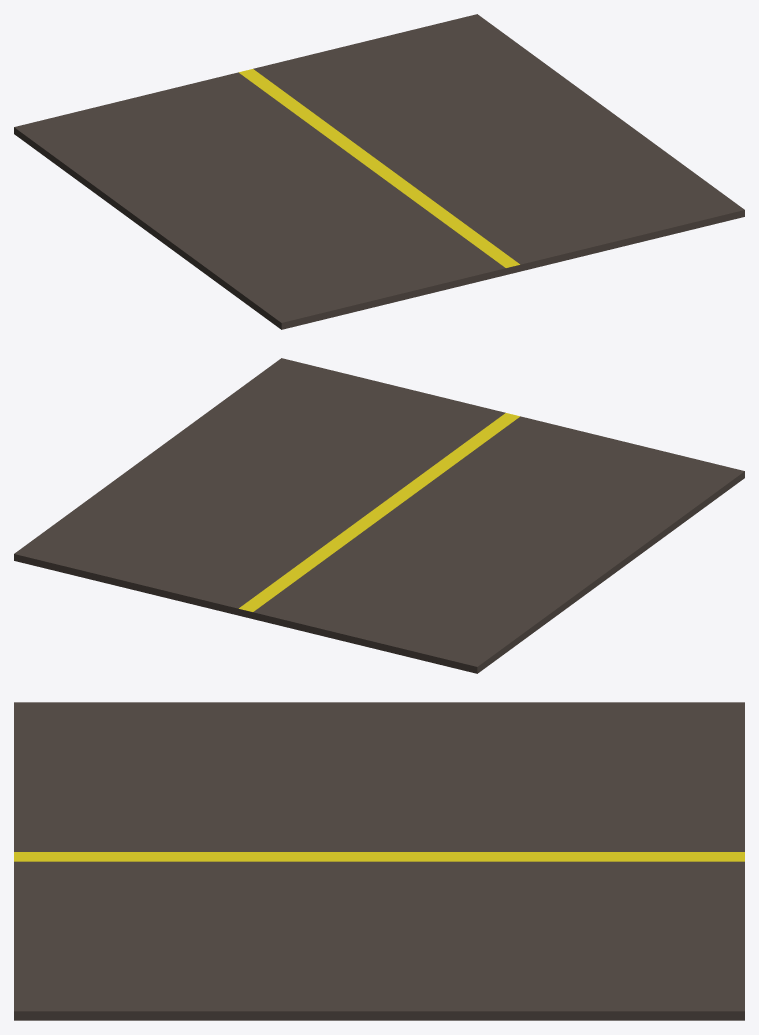
Rendered from Route.fbx.
3 views of the same model, one above another, from view 1: azimuth 30°, elevation 25°; view 2: azimuth 150°, elevation 25°; view 3: azimuth 270°, elevation 25° (orthographic). The views are drawn at different scales.
Visible parts, largest first — view 1: Route; view 2: Route; view 3: Route.
Boxes of the visible parts, left/top/right/bottom form: Route: left=14, top=14, right=744, bottom=329; Route: left=14, top=358, right=744, bottom=673; Route: left=14, top=702, right=744, bottom=1020.
Bounding box in the file's own units: 700 × 700 × 10.
